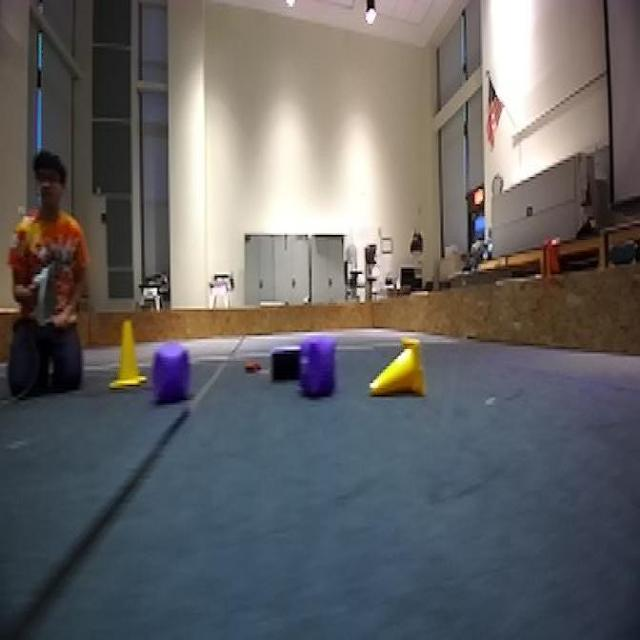frc_cone: (366, 330, 431, 410), (108, 311, 148, 390)
frc_cube: (152, 334, 190, 412), (297, 334, 340, 402)
